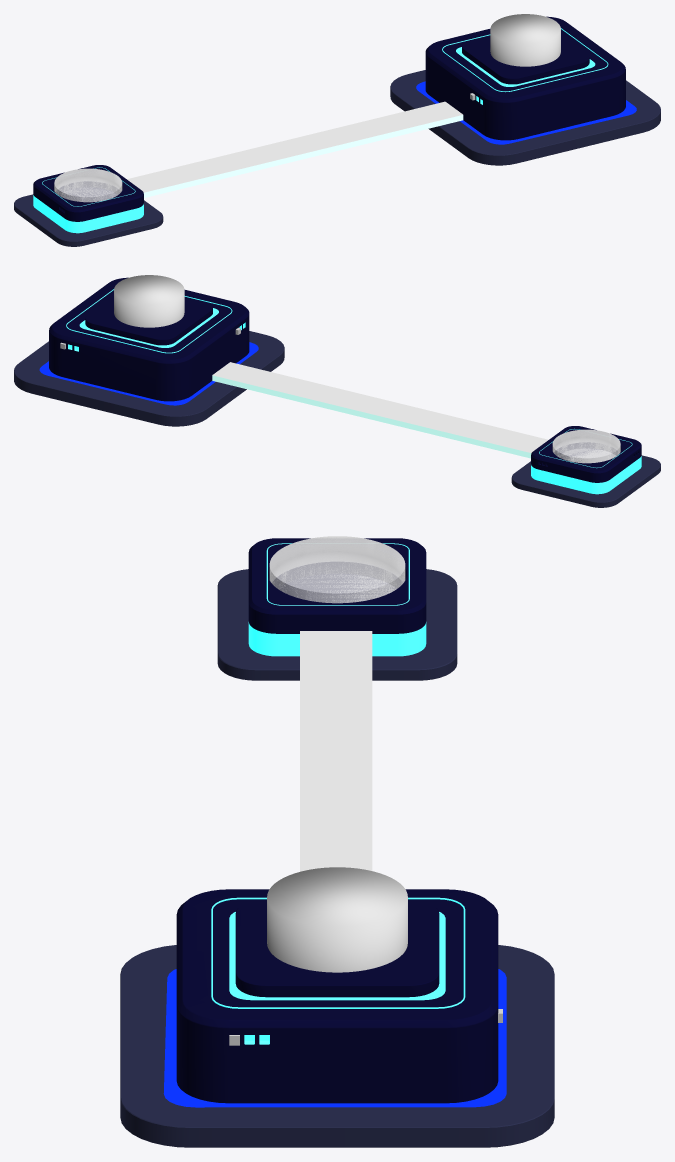
3 views of the same model, one above another, from view 1: azimuth 30°, elevation 25°; view 2: azimuth 150°, elevation 25°; view 3: azimuth 270°, elevation 25° (orthographic). The views are drawn at different scales.
Parts seen in each view (by area): view 1: Lit_up_face, Cube.001, Cube, Cube.010, Cylinder.001, Cube.002, Cube.008, Cube.012, Cylinder.003, Cylinder.004, Cube.009, Cube.011 (+2 smaller); view 2: Lit_up_face, Cube.001, Cube, Cylinder.001, Cube.010, Cube.002, Cube.008, Cube.012, Cylinder.003, Cylinder.004, Cube.009, Cube.011 (+2 smaller); view 3: Lit_up_face, Cube.001, Cube, Cylinder.001, Cube.010, Cube.002, Cube.008, Cylinder.003, Cylinder.004, Cube.011, Cube.009, Cube.007 (+1 smaller).
Part boxes in pixels (x1,y1,x2,y2): Lit_up_face: (425, 16, 625, 140); Cube.001: (390, 70, 660, 165); Cube: (127, 101, 462, 192); Cube.010: (33, 165, 143, 221); Cylinder.001: (490, 14, 560, 66); Cube.002: (462, 35, 589, 84); Cube.008: (14, 194, 163, 246); Cube.012: (143, 115, 463, 197); Cylinder.003: (54, 168, 122, 202); Cylinder.004: (54, 168, 122, 201); Cube.009: (33, 195, 143, 233); Cube.011: (416, 81, 636, 144); Lit_up_face: (49, 277, 249, 401); Cube.001: (14, 331, 284, 426); Cube: (212, 362, 548, 452); Cylinder.001: (114, 275, 184, 327); Cube.010: (531, 426, 641, 482); Cube.002: (85, 296, 212, 345); Cube.008: (511, 455, 660, 507); Cube.012: (212, 375, 531, 458); Cylinder.003: (552, 429, 620, 463); Cylinder.004: (553, 429, 620, 462); Cube.009: (531, 456, 641, 494); Cube.011: (39, 342, 258, 405); Lit_up_face: (176, 889, 498, 1103); Cube.001: (120, 945, 554, 1147); Cube: (300, 631, 372, 871); Cylinder.001: (267, 867, 407, 972); Cube.010: (248, 538, 426, 633); Cube.002: (235, 900, 439, 997); Cube.008: (217, 569, 457, 680); Cylinder.003: (269, 536, 405, 603); Cylinder.004: (269, 536, 405, 602); Cube.011: (163, 969, 506, 1107); Cube.009: (248, 622, 426, 656); Cube.007: (229, 912, 445, 1000).
Size of what is drawn, in the model's own units: 19.34 by 2.54 by 6.24.
